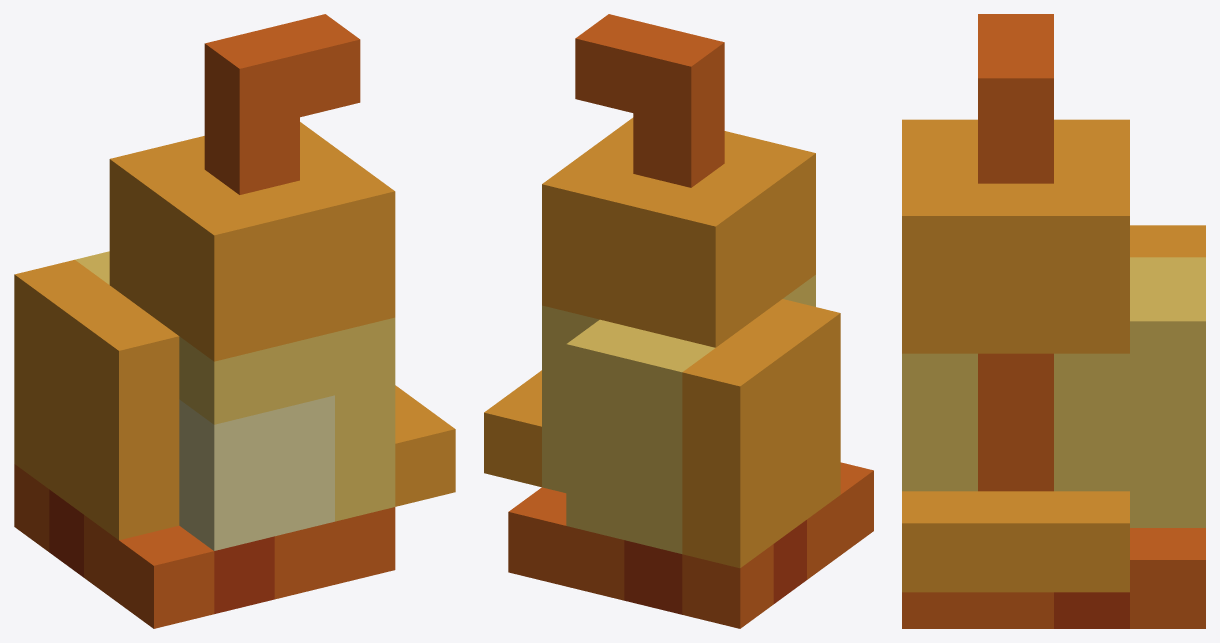
The model's file is flame_01.glb.
The picture shows the model from 3 angles, left to right: view 1: azimuth 30°, elevation 25°; view 2: azimuth 150°, elevation 25°; view 3: azimuth 270°, elevation 25°; orthographic projection. The views are drawn at different scales.
Parts seen in each view (by area): view 1: flame_01; view 2: flame_01; view 3: flame_01.
Part boxes in pixels (x1,y1,x2,y2): flame_01: (14, 14, 455, 628); flame_01: (484, 14, 873, 628); flame_01: (902, 14, 1205, 628).
Bounding box in the file's own units: 0.625 × 1 × 0.5.
